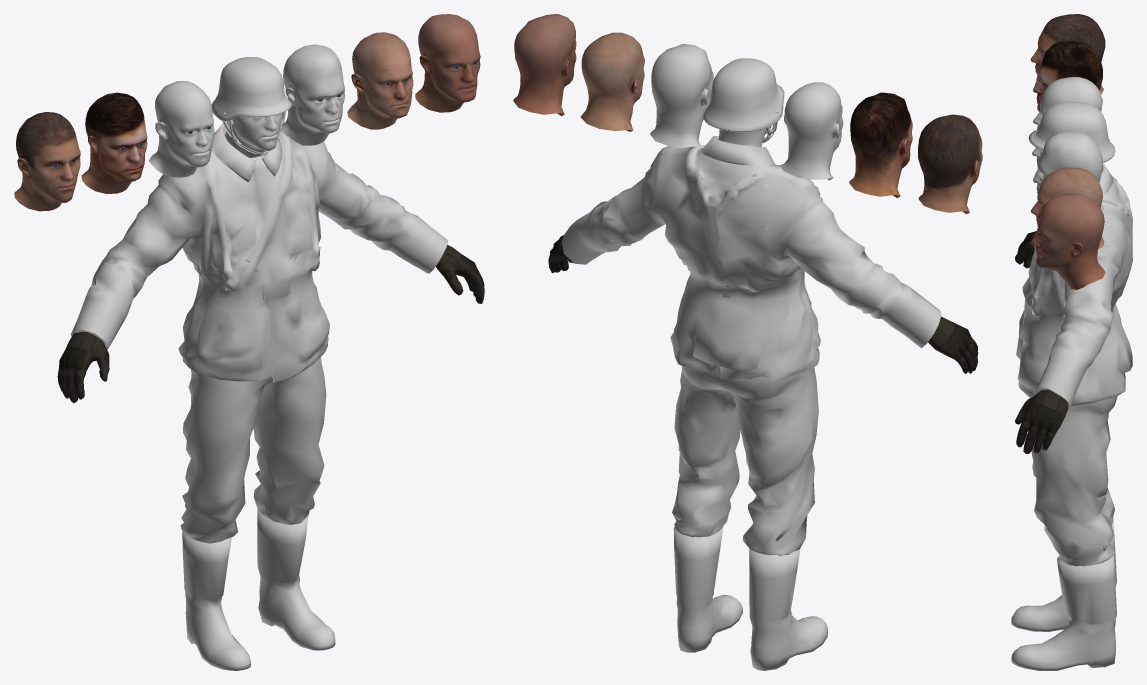
Rendered from Nazi Heads.fbx.
3 renders of one model, left to right at view 1: azimuth 30°, elevation 25°; view 2: azimuth 150°, elevation 25°; view 3: azimuth 270°, elevation 25°, orthographic. The views are drawn at different scales.
Visible parts, largest first — view 1: Torso, Pants, Shoe_left, Shoe_right, Head 1, Head 2, Head 7, Head 5, Head 6, Head 3, Helmet, Gloves (+1 smaller); view 2: Torso, Pants, Shoe_right, Shoe_left, Head 2, Head 5, Head 1, Head 7, Head 6, Helmet, Head 3, Gloves; view 3: Torso, Pants, Shoe_left, Head 7, Gloves, Helmet, Head 2, Head 5, Head 1, Head 6, Shoe_right, Head 3.
Boxes of the visible parts, x1=… form: Torso: x1=71, y1=121, x2=448, y2=382; Pants: x1=180, y1=357, x2=326, y2=543; Shoe_left: x1=257, y1=509, x2=335, y2=650; Shoe_right: x1=182, y1=531, x2=250, y2=670; Head 1: x1=14, y1=112, x2=80, y2=211; Head 2: x1=81, y1=92, x2=147, y2=193; Head 7: x1=415, y1=14, x2=480, y2=112; Head 5: x1=280, y1=44, x2=344, y2=145; Head 6: x1=347, y1=32, x2=413, y2=129; Head 3: x1=149, y1=81, x2=214, y2=177; Helmet: x1=211, y1=57, x2=292, y2=153; Gloves: x1=57, y1=245, x2=484, y2=403; Torso: x1=561, y1=136, x2=941, y2=381; Pants: x1=673, y1=366, x2=818, y2=556; Shoe_right: x1=749, y1=548, x2=827, y2=670; Shoe_left: x1=673, y1=526, x2=742, y2=652; Head 2: x1=849, y1=92, x2=912, y2=197; Head 5: x1=650, y1=44, x2=713, y2=148; Head 1: x1=918, y1=114, x2=982, y2=214; Head 7: x1=513, y1=14, x2=576, y2=115; Head 6: x1=580, y1=32, x2=644, y2=131; Helmet: x1=703, y1=58, x2=784, y2=142; Head 3: x1=780, y1=82, x2=843, y2=180; Gloves: x1=548, y1=234, x2=978, y2=373; Torso: x1=1016, y1=163, x2=1132, y2=409; Pants: x1=1031, y1=396, x2=1117, y2=566; Shoe_left: x1=1011, y1=553, x2=1116, y2=670; Head 7: x1=1031, y1=193, x2=1105, y2=289; Gloves: x1=1015, y1=231, x2=1068, y2=453; Helmet: x1=1028, y1=101, x2=1115, y2=162; Head 2: x1=1033, y1=41, x2=1102, y2=111; Head 5: x1=1033, y1=131, x2=1104, y2=213; Head 1: x1=1030, y1=14, x2=1105, y2=94; Head 6: x1=1031, y1=167, x2=1104, y2=248; Shoe_right: x1=1011, y1=521, x2=1116, y2=631; Head 3: x1=1033, y1=77, x2=1102, y2=129.
Bounding box in the file's own units: 148 × 178 × 36.51.
